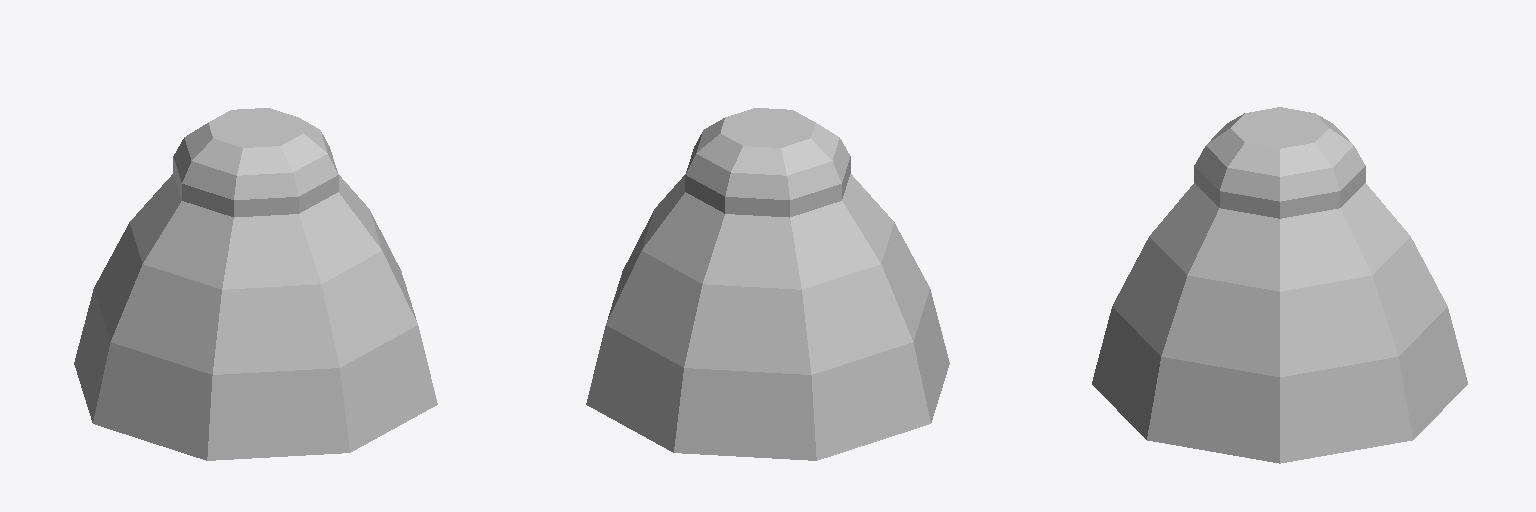
Rendered from parachute_simple.obj.
3 views of the same model, side by side, from view 1: azimuth 30°, elevation 25°; view 2: azimuth 150°, elevation 25°; view 3: azimuth 270°, elevation 25° (orthographic).
Visible parts, largest first — view 1: Cylinder_Cylinder.001; view 2: Cylinder_Cylinder.001; view 3: Cylinder_Cylinder.001.
Boxes of the visible parts, box(x1,y1,x2,y2) form: Cylinder_Cylinder.001: box(74, 108, 437, 460); Cylinder_Cylinder.001: box(586, 108, 949, 460); Cylinder_Cylinder.001: box(1092, 107, 1467, 463).
Size of the model in its own units: 1 by 0.75 by 1.